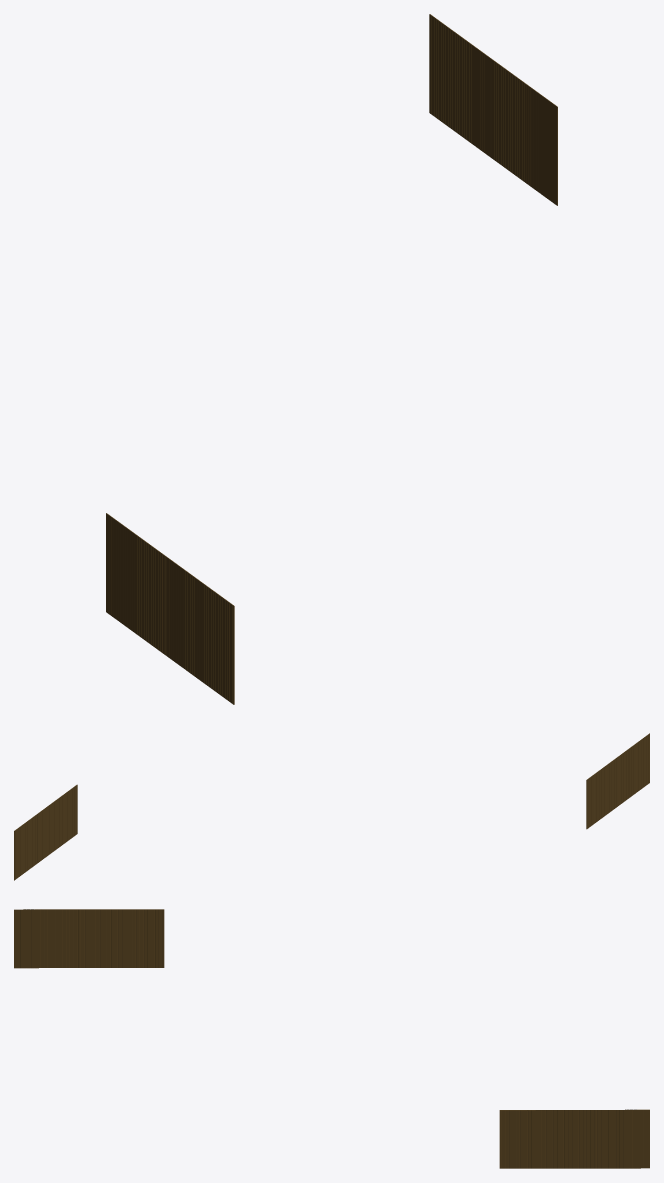
File: fence_compressed.glb
3 views of the same model, one above another, from view 1: azimuth 30°, elevation 25°; view 2: azimuth 150°, elevation 25°; view 3: azimuth 270°, elevation 25° (orthographic). The views are drawn at different scales.
Visible parts, largest first — view 1: Cube.834; view 2: Cube.834; view 3: Cube.834.
Boxes of the visible parts, bbox=[...] form: Cube.834: bbox=[106, 14, 557, 704]; Cube.834: bbox=[14, 733, 649, 880]; Cube.834: bbox=[14, 909, 649, 1168].
Size of the model in its own units: 10.37 by 1.59 by 13.13.
